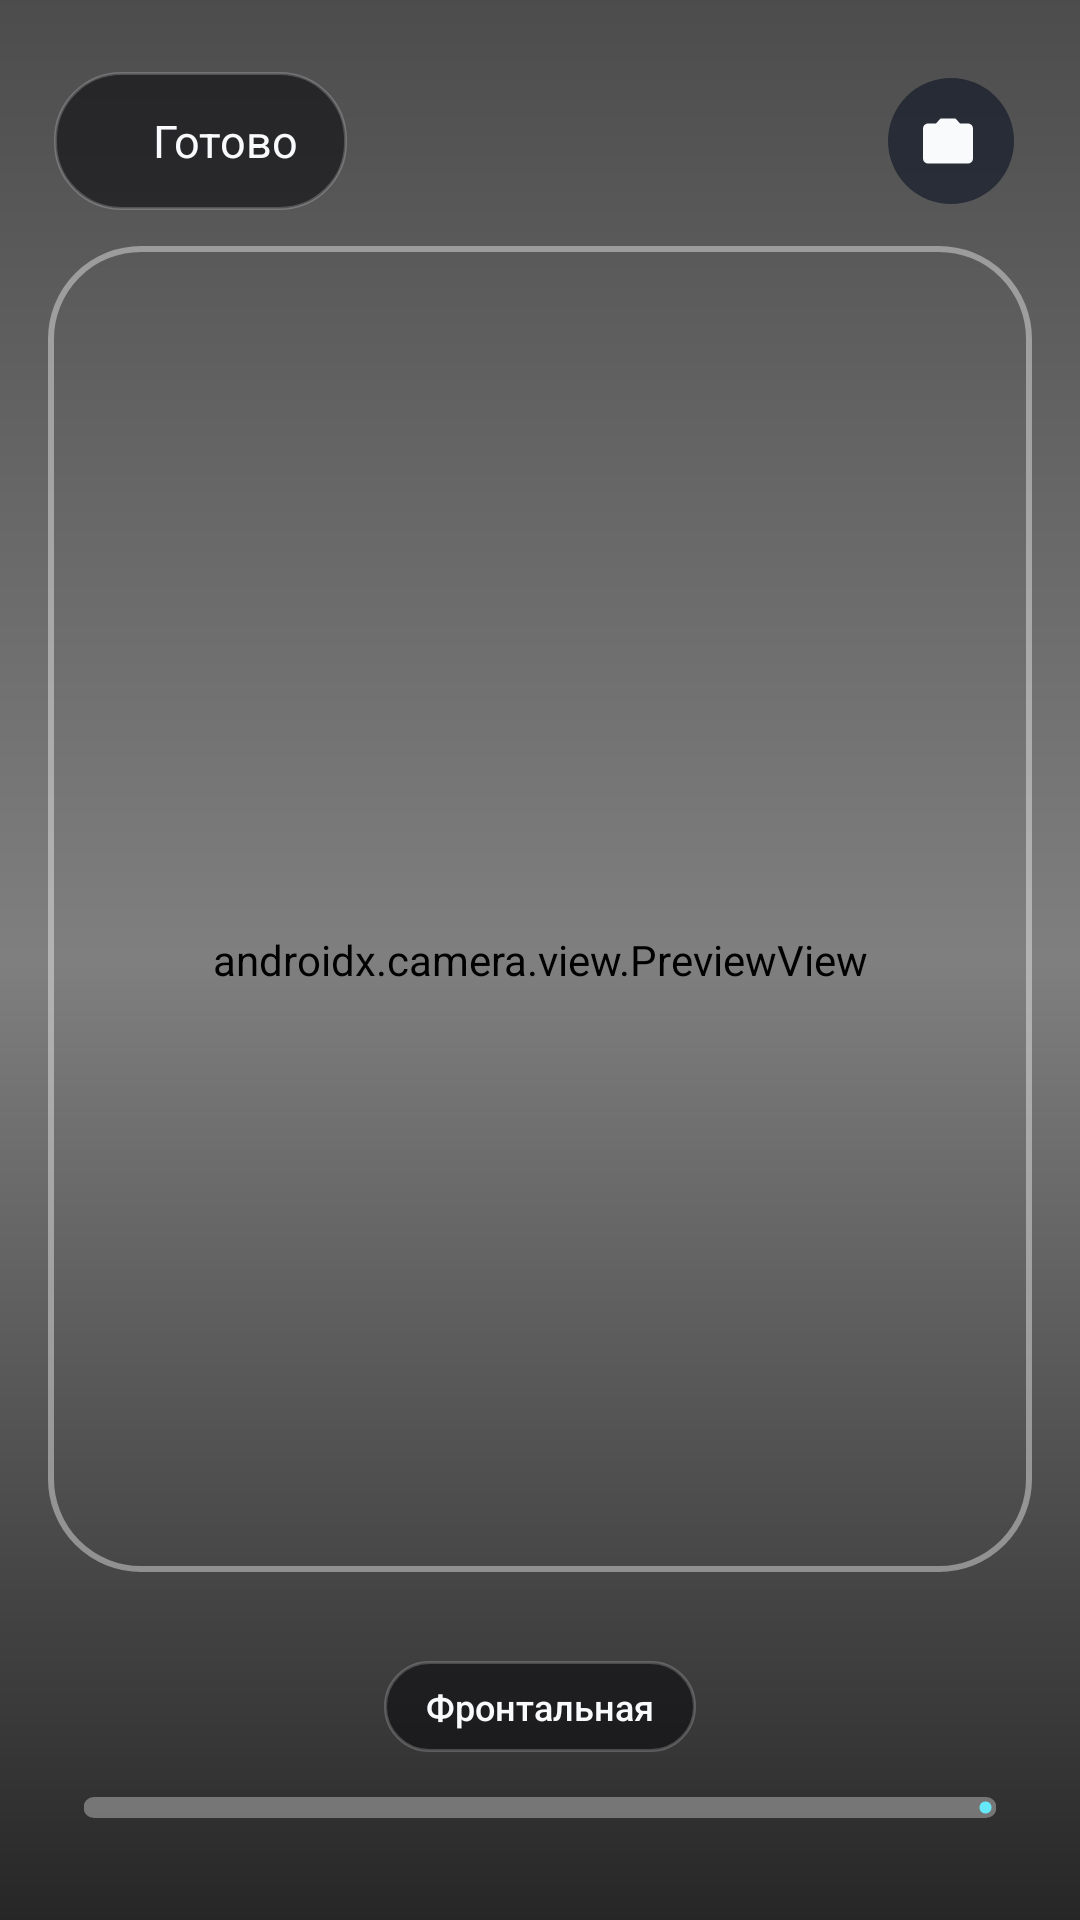

Named icons in this screenshot (1080*1920) and their bounding boxes, rect(x1, y1, x2, y2):
Задняя камера: rect(888, 78, 1014, 204)
